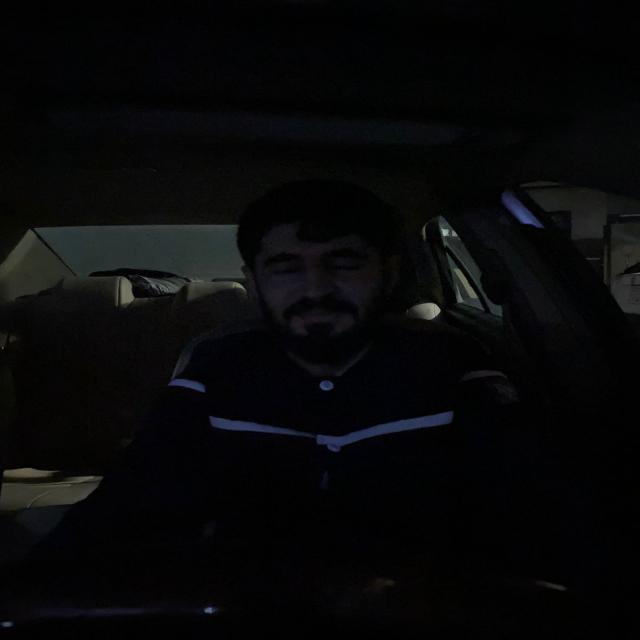drowsy: (228, 182, 410, 370)
